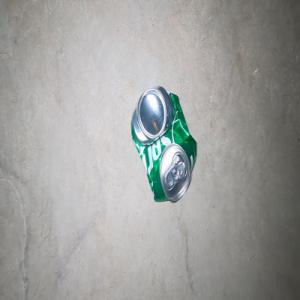SodaCan: (130, 84, 197, 202)
